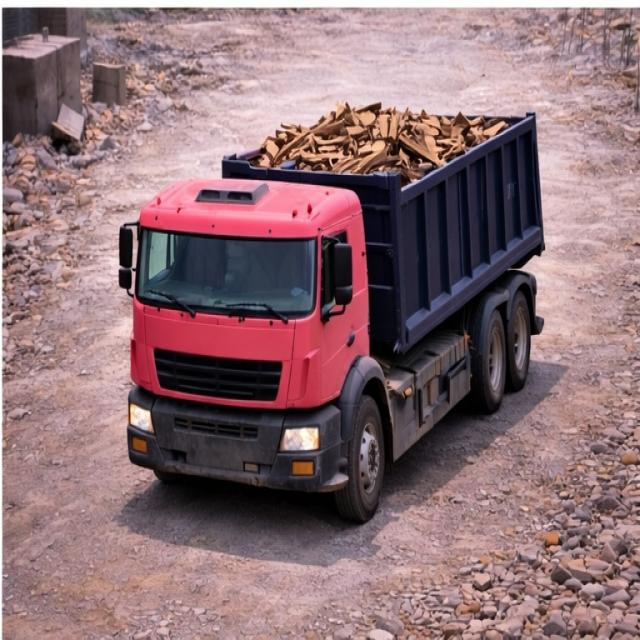trailer: (223, 100, 534, 167)
truck: (120, 82, 546, 497)
